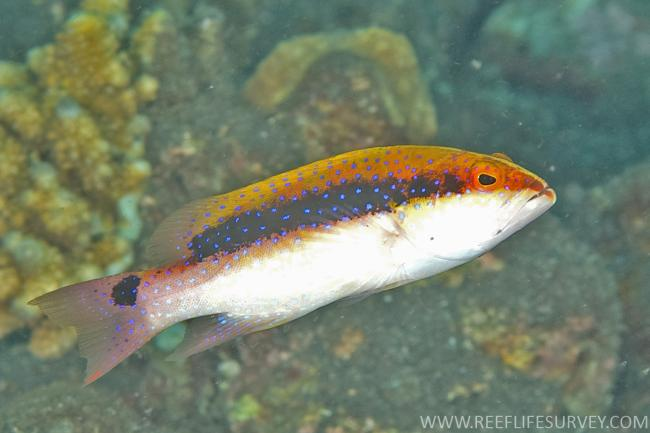fish: (27, 144, 559, 389)
